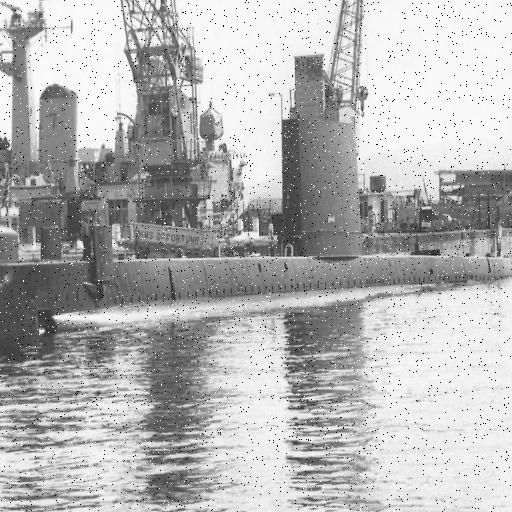submarine: (1, 117, 512, 347)
